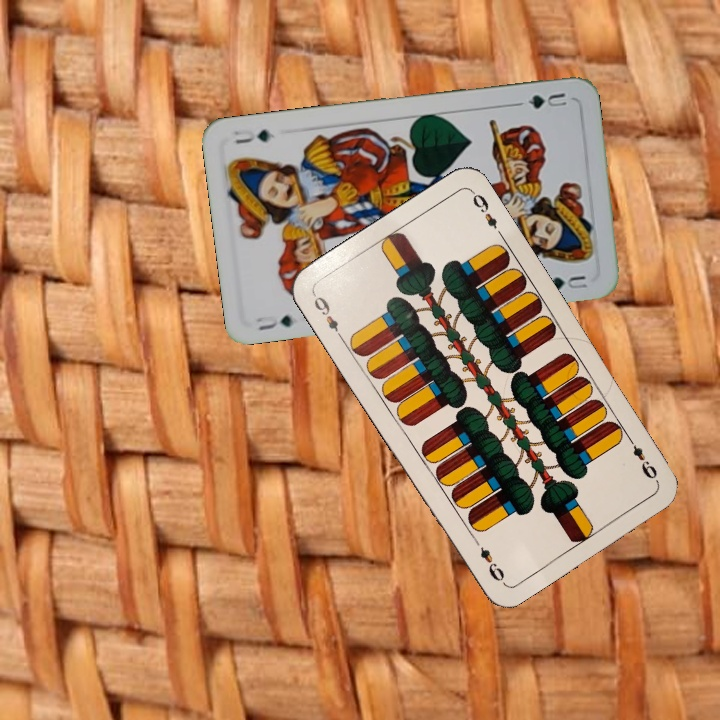E9: (309, 289, 346, 343), (623, 432, 660, 482)
GU: (514, 88, 570, 112), (254, 311, 296, 333)
